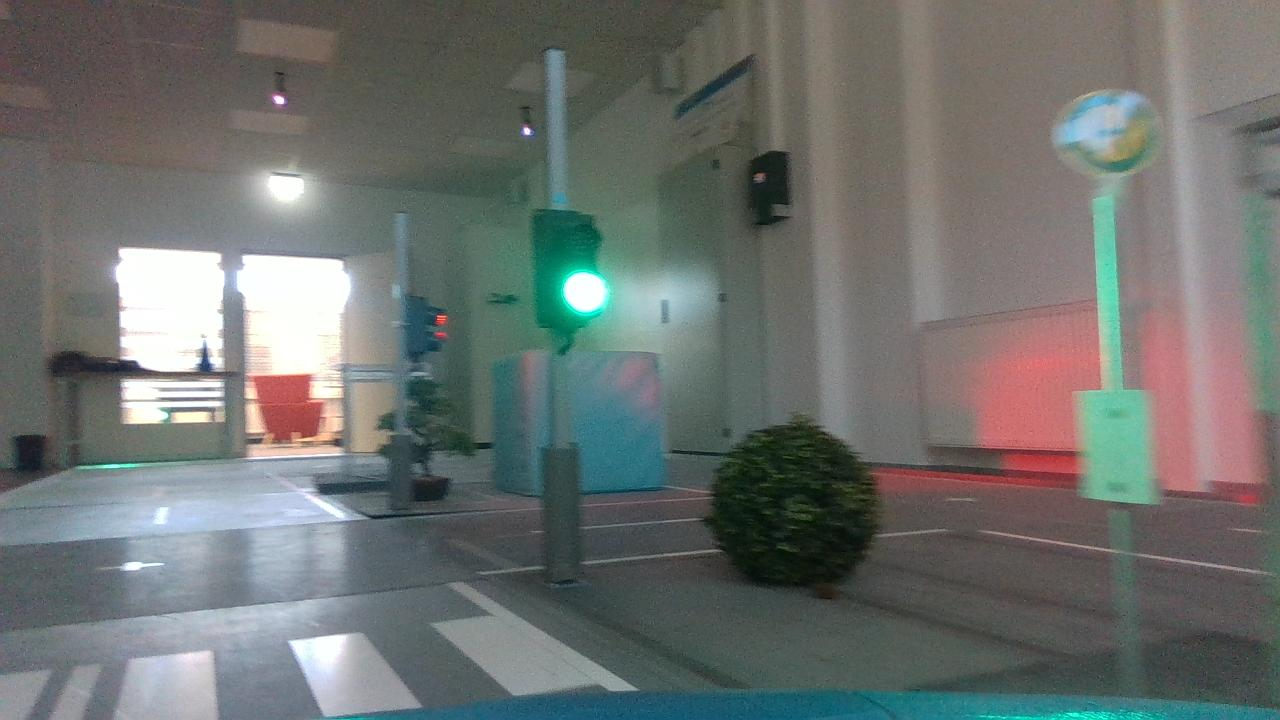traffic_light_green: (513, 197, 622, 352)
